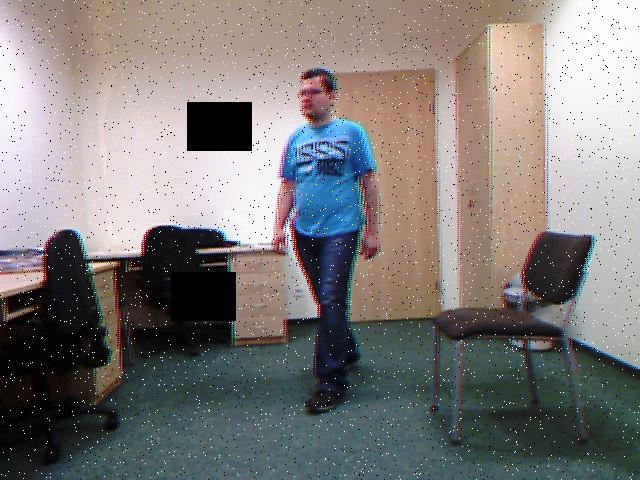walking: (266, 53, 391, 426)
